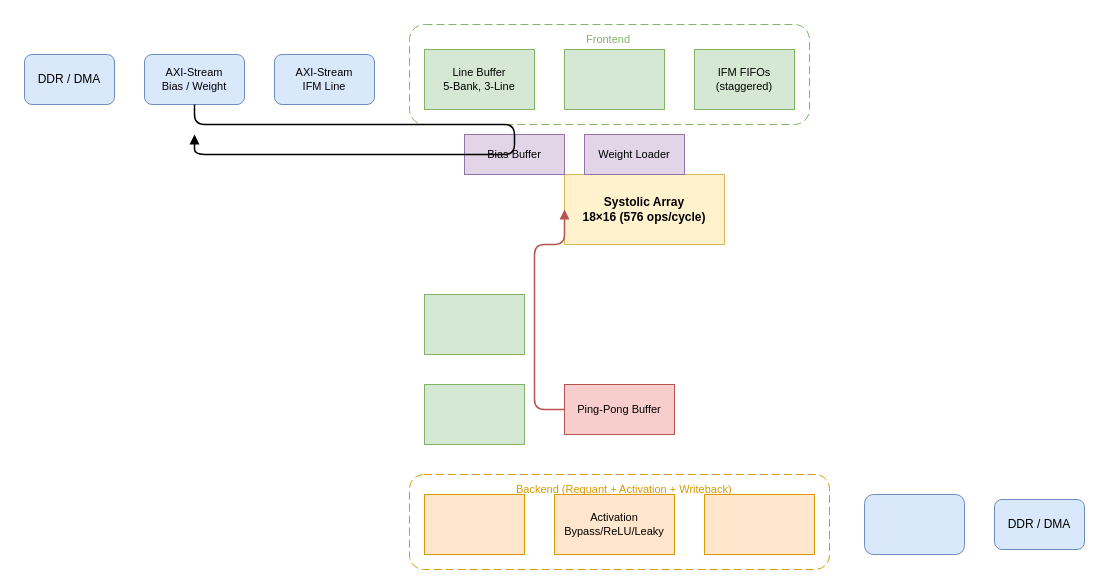
This 1103x588 diagram has some shape labels left out. Here are the shapes that lost their labels. From the top down, the centre of each, then its label:
At point (614, 79): "Window Extract".
At point (474, 324): "PSUM FIFOs".
At point (474, 414): "PSUM Drain".
At point (474, 524): "Requant (32-lane)".
At point (759, 524): "OFM Writeback (HWC addr)".
At point (914, 524): "AXI-Stream OFM Out".
